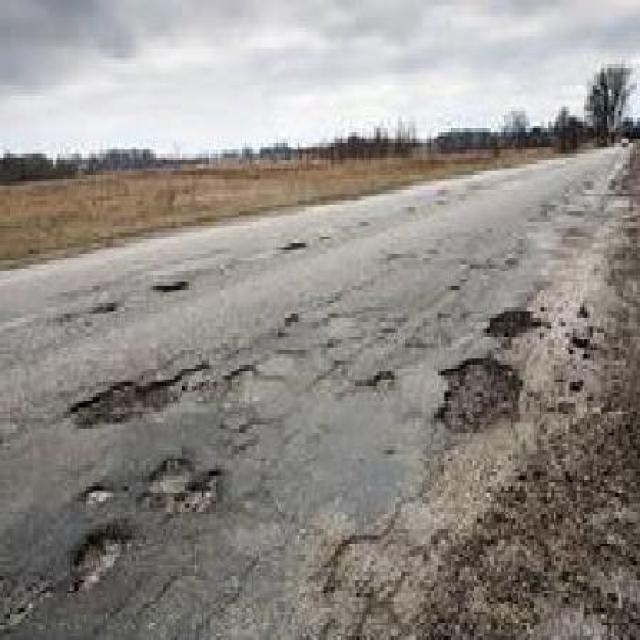pothole: (66, 354, 208, 427), (436, 354, 528, 433), (140, 454, 222, 516), (67, 522, 133, 596), (482, 302, 547, 340), (82, 482, 118, 504)
